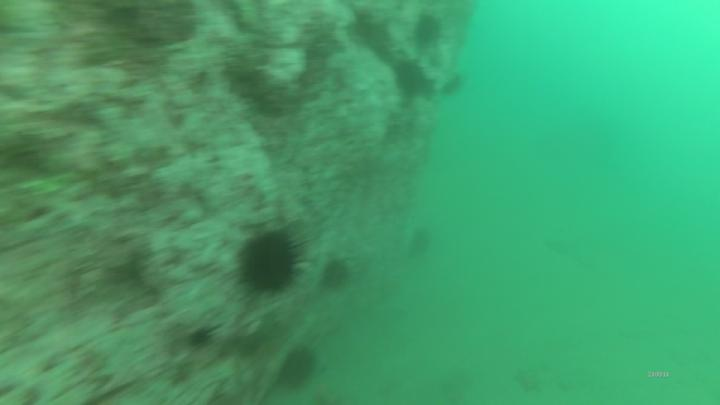echinus: (244, 231, 297, 294), (285, 350, 315, 388), (398, 65, 425, 98), (322, 259, 346, 289), (416, 17, 438, 49)
